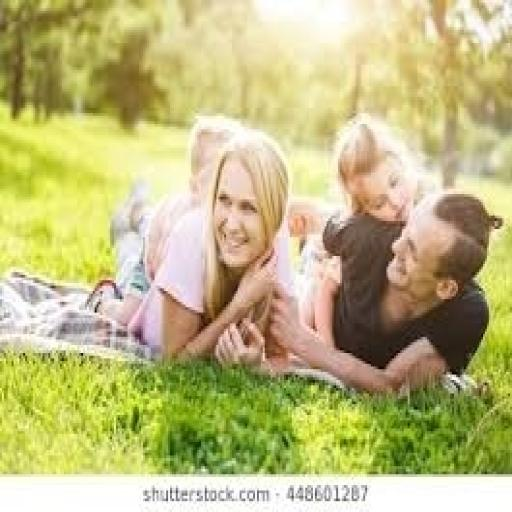sitting: (0, 107, 504, 401), (263, 186, 502, 401), (126, 126, 296, 366)
